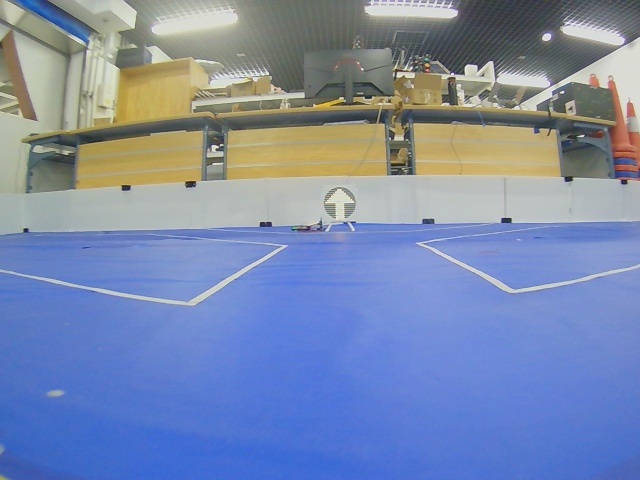straight_yellow: (324, 187, 356, 221)
